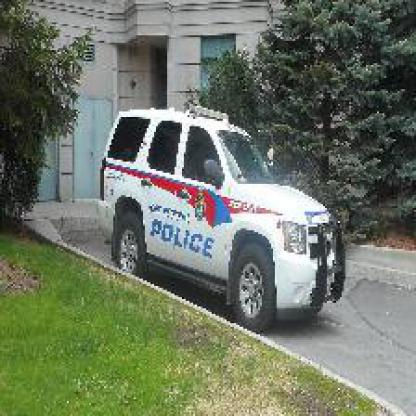emergency: (94, 100, 349, 340)
